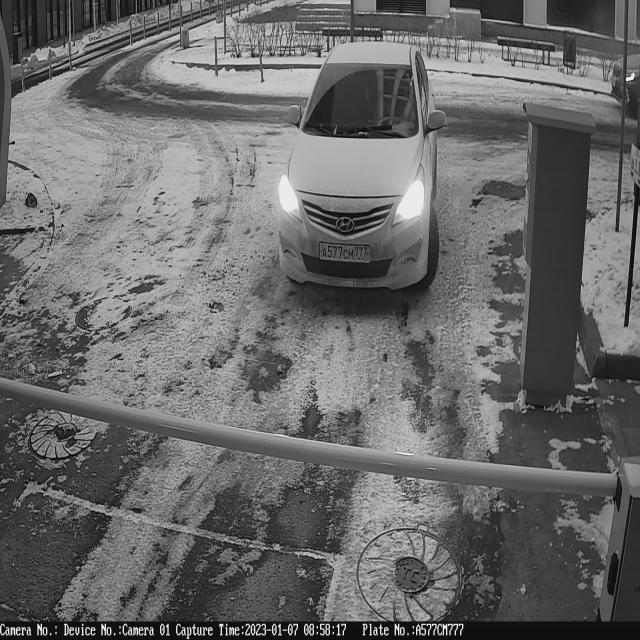car-plate-numbers: (318, 235, 375, 271)
